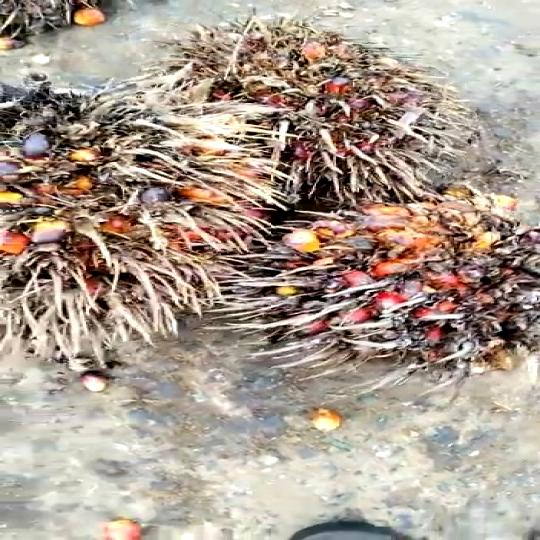terlalu masak: (0, 79, 292, 368), (142, 27, 466, 210), (255, 203, 540, 372)
